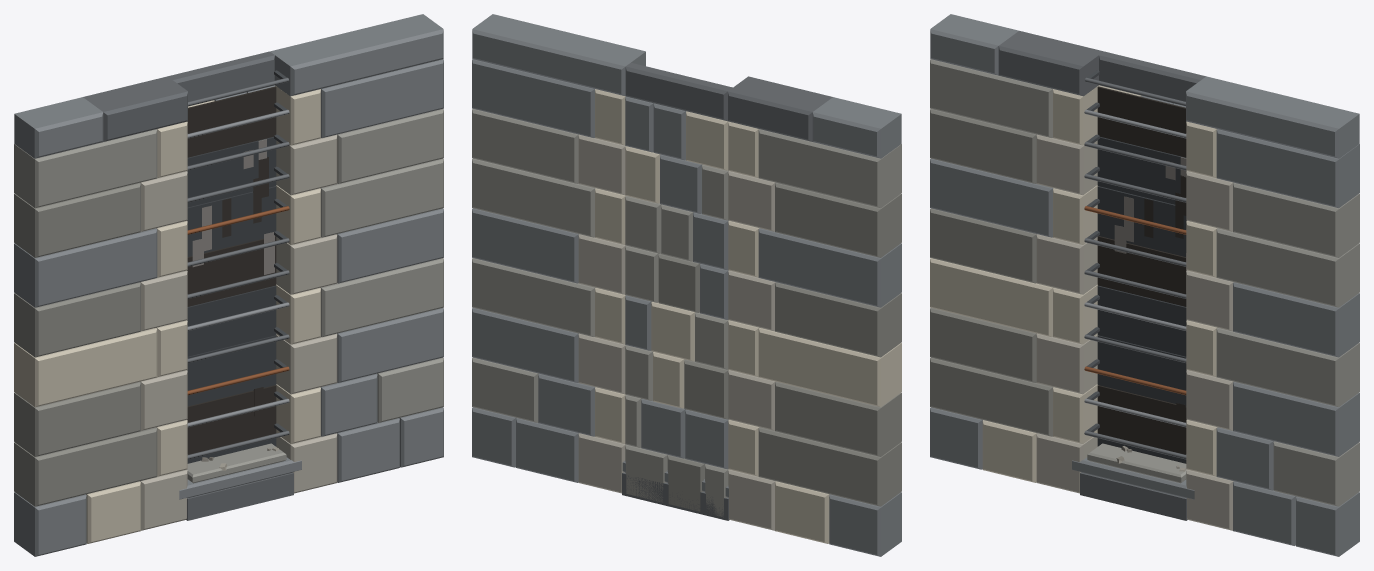
The model's file is SM_LPD_Struct_ShaftWall_01.fbx.
3 renders of one model, left to right at view 1: azimuth 30°, elevation 25°; view 2: azimuth 150°, elevation 25°; view 3: azimuth 330°, elevation 25°, orthographic.
Visible parts, largest first — view 1: SM_LPD_Struct_ShaftWall_01; view 2: SM_LPD_Struct_ShaftWall_01; view 3: SM_LPD_Struct_ShaftWall_01.
Boxes of the visible parts, left/top/right/bottom form: SM_LPD_Struct_ShaftWall_01: left=14, top=14, right=443, bottom=556; SM_LPD_Struct_ShaftWall_01: left=472, top=14, right=901, bottom=556; SM_LPD_Struct_ShaftWall_01: left=930, top=14, right=1359, bottom=556.
Size of the model in its own units: 4 by 4 by 0.4.
